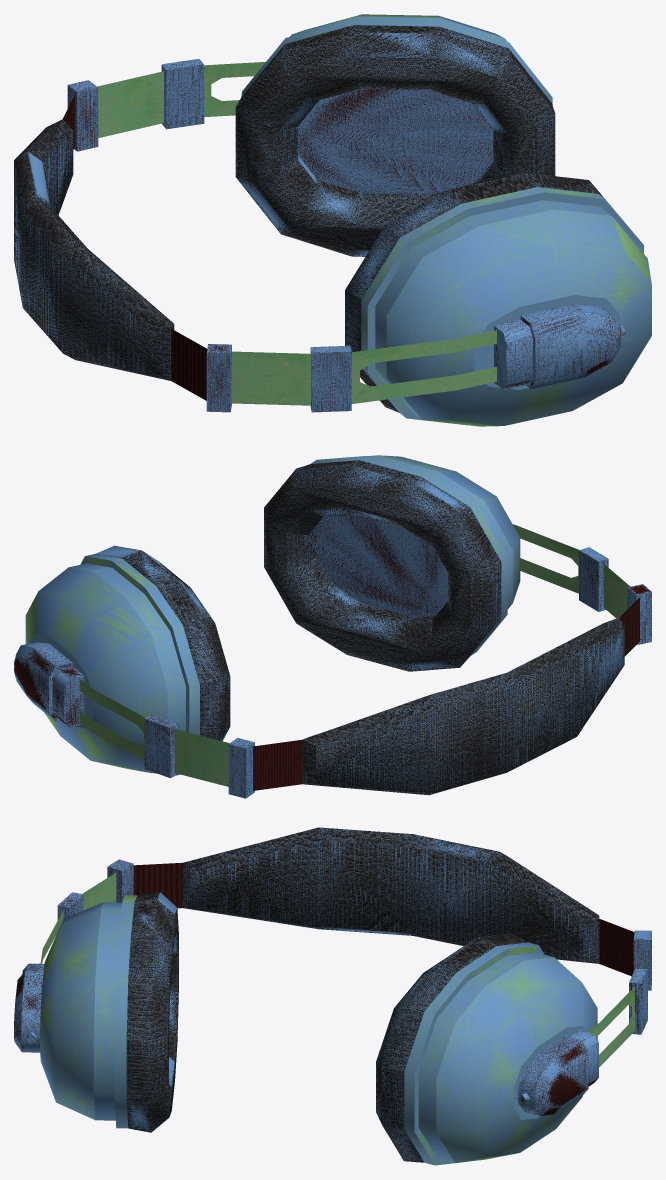
File: Headphone.fbx
3 views of the same model, one above another, from view 1: azimuth 30°, elevation 25°; view 2: azimuth 150°, elevation 25°; view 3: azimuth 270°, elevation 25° (orthographic). The views are drawn at different scales.
Parts seen in each view (by area): view 1: Group1; view 2: Group1; view 3: Group1.
Part boxes in pixels (<box>): Group1: <box>14,14,651,426</box>; Group1: <box>14,455,651,798</box>; Group1: <box>14,827,651,1165</box>.
Bounding box in the file's own units: 276 × 106 × 317.
